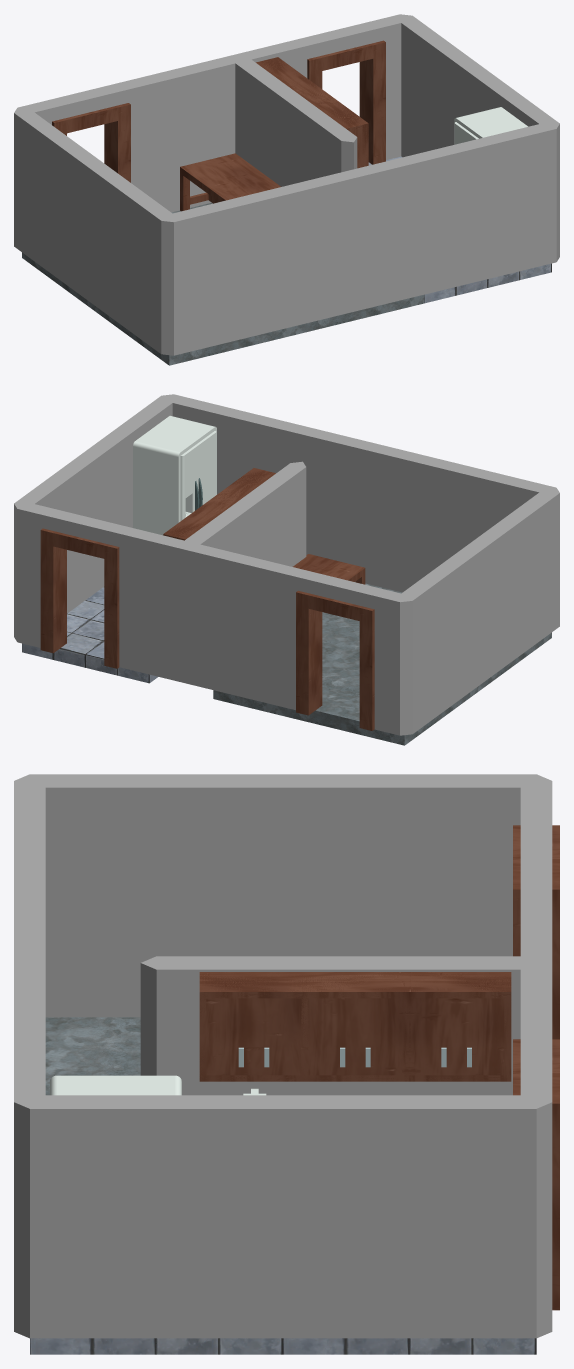
Rendered from Level_1_6.fbx.
3 views of the same model, one above another, from view 1: azimuth 30°, elevation 25°; view 2: azimuth 150°, elevation 25°; view 3: azimuth 270°, elevation 25° (orthographic). The views are drawn at different scales.
Visible parts, largest first — view 1: mergedBlocks; view 2: mergedBlocks; view 3: mergedBlocks.
Part boxes in pixels (x1,y1,x2,y2): mergedBlocks: (14, 14, 559, 365); mergedBlocks: (14, 394, 559, 745); mergedBlocks: (14, 774, 559, 1354).
Bounding box in the file's own units: 62.5 × 22 × 43.1.
12 materials, 4 textured.
